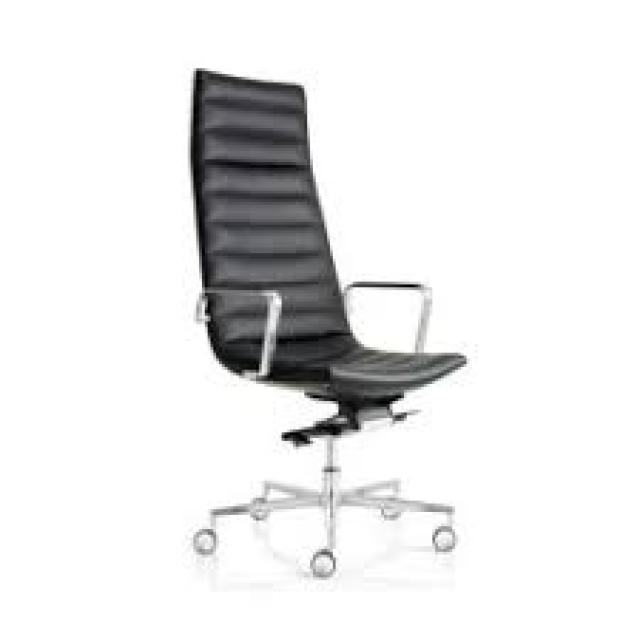chair: (70, 31, 536, 635)
